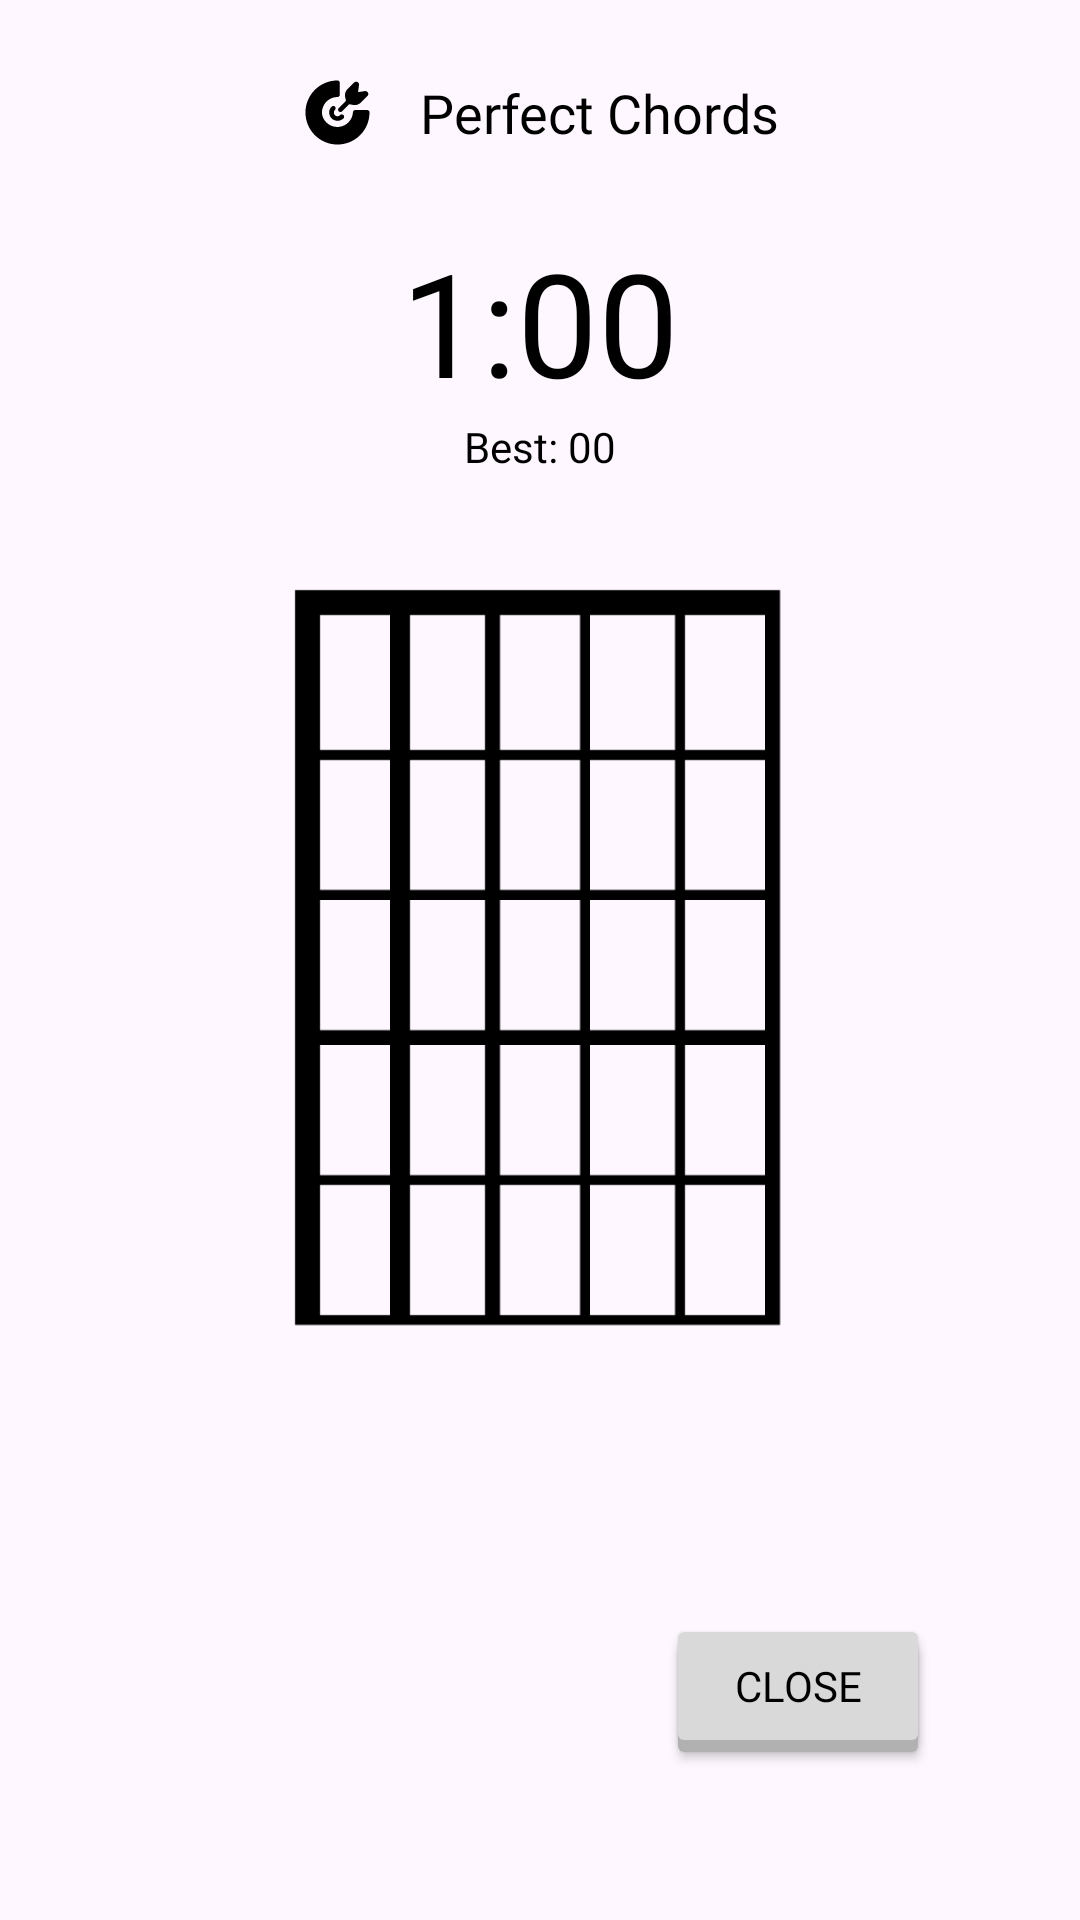

Named icons in this screenshot (1080px×1920px) and their centers, (x=x, y=y):
bulls eye: (x=337, y=112)
